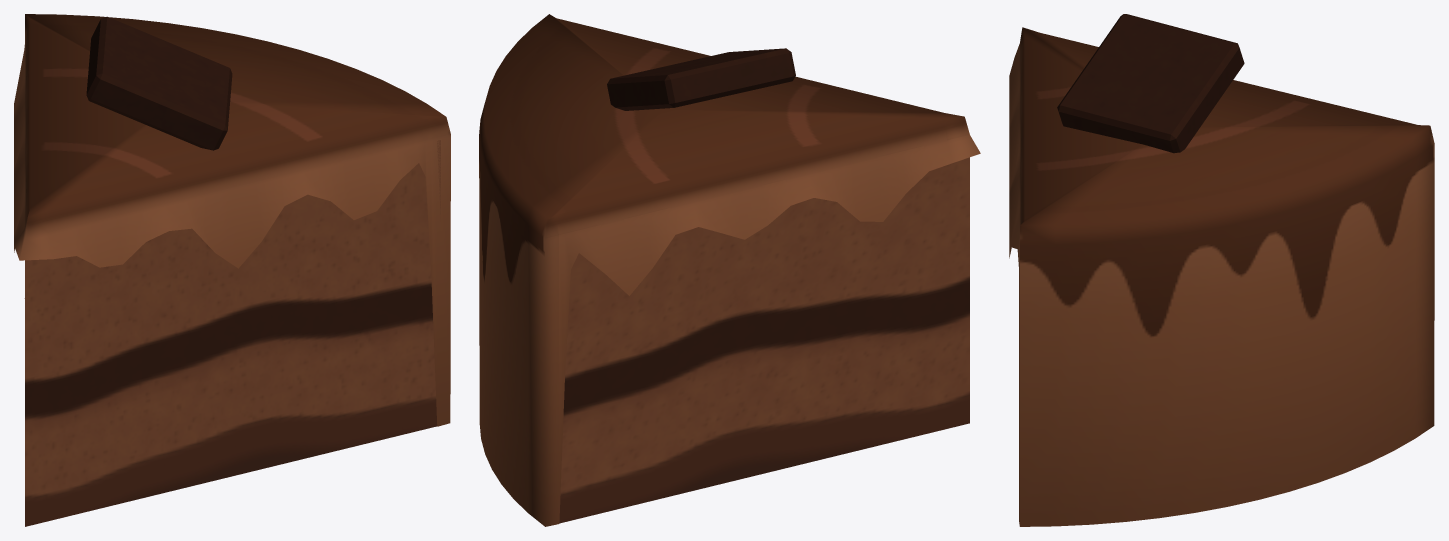
The model's file is chocolate_slice.glb.
3 views of the same model, side by side, from view 1: azimuth 30°, elevation 25°; view 2: azimuth 150°, elevation 25°; view 3: azimuth 270°, elevation 25° (orthographic). The views are drawn at different scales.
Visible parts, largest first — view 1: ChocolateSlice; view 2: ChocolateSlice; view 3: ChocolateSlice.
Part boxes in pixels (x1,y1,x2,y2): ChocolateSlice: (14,14,450,526); ChocolateSlice: (479,14,980,526); ChocolateSlice: (1009,14,1434,526).
Size of the model in its own units: 1.04 by 0.8792 by 0.9096.
1 material, 1 textured.
